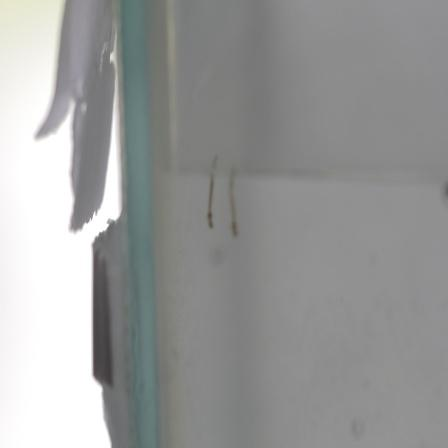Jentik-Nyamuk: (203, 170, 218, 230)
